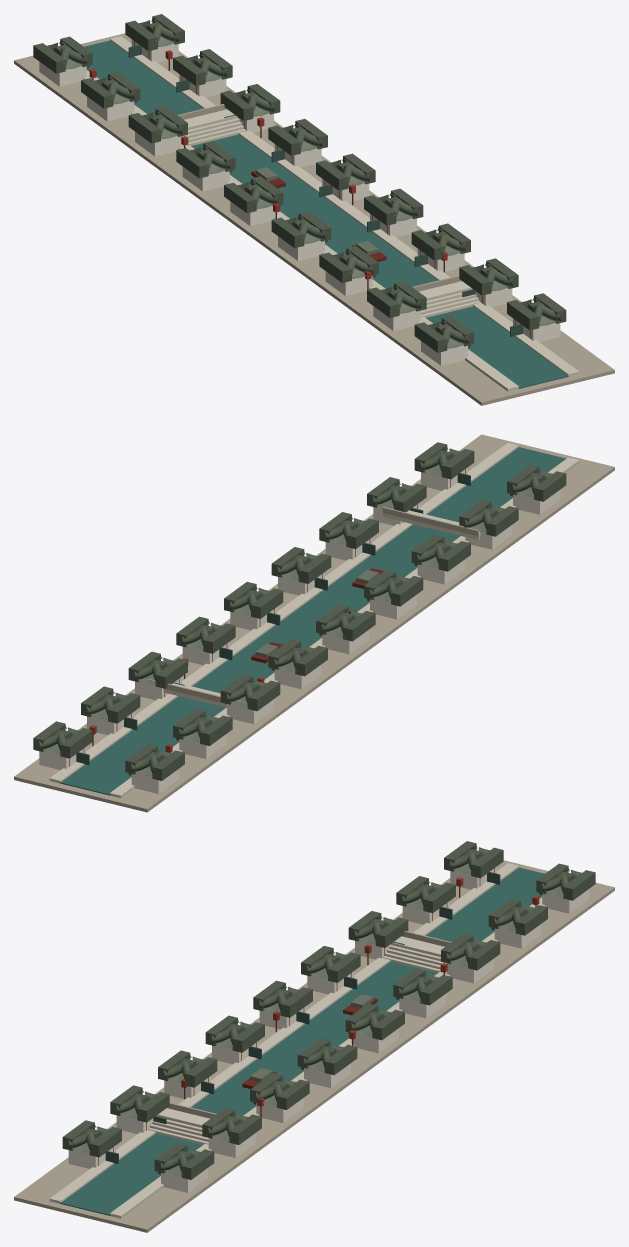
3 views of the same model, one above another, from view 1: azimuth 30°, elevation 25°; view 2: azimuth 150°, elevation 25°; view 3: azimuth 330°, elevation 25° (orthographic).
Size of the model in its own units: 0.42 by 0.1043 by 2.55.
